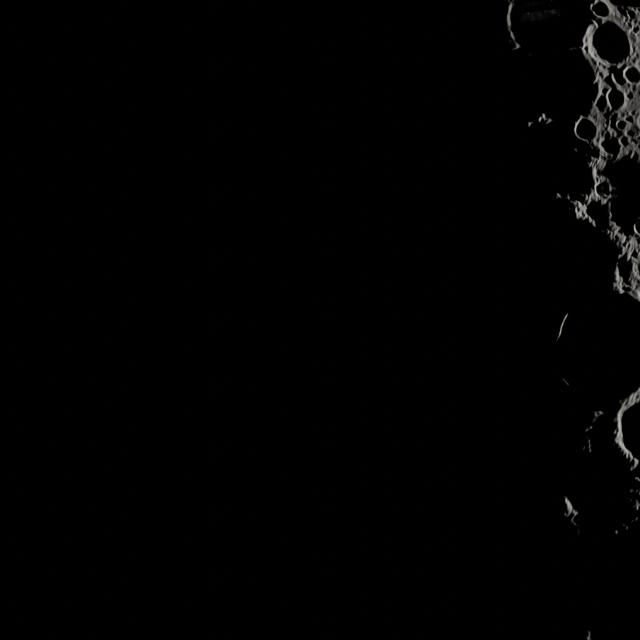crater: (581, 20, 632, 71), (572, 117, 600, 148), (584, 0, 616, 23), (588, 176, 616, 199), (605, 86, 627, 113), (618, 61, 640, 88), (599, 134, 623, 158)
